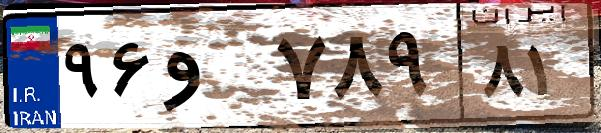1: (525, 38, 570, 115)
6: (110, 28, 158, 98)
7: (270, 28, 330, 110)
8: (330, 28, 385, 110), (475, 38, 525, 113)
9: (385, 28, 445, 110), (57, 26, 110, 100)
و: (158, 20, 270, 120)
